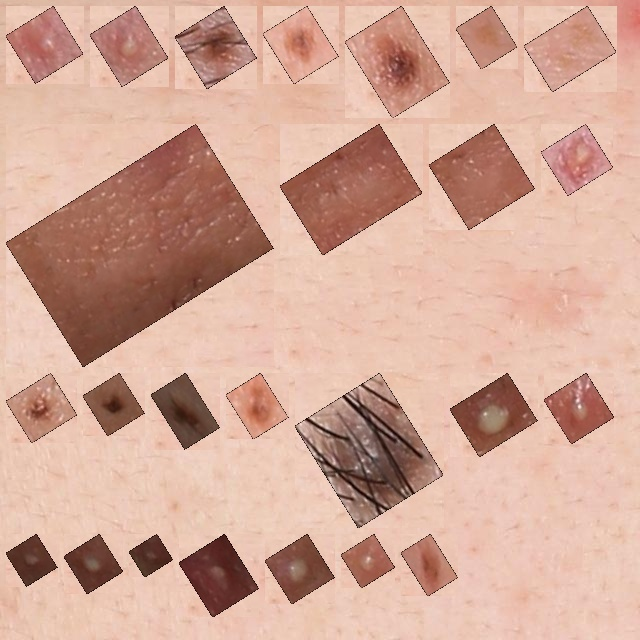hypertrophic_scar: (17, 135, 262, 355), (291, 135, 411, 244), (440, 135, 524, 218)
melasma: (535, 17, 605, 81), (467, 17, 506, 58)
nevus: (306, 384, 432, 517), (356, 17, 438, 107), (186, 17, 245, 77), (274, 17, 327, 73), (162, 384, 209, 438), (17, 384, 66, 432), (237, 384, 277, 428), (94, 384, 133, 425), (412, 545, 447, 585)
pustule: (461, 384, 526, 446), (190, 545, 248, 606), (101, 17, 157, 75), (17, 17, 72, 72), (552, 135, 602, 184), (555, 384, 603, 433), (276, 545, 323, 593), (75, 545, 112, 583), (352, 545, 384, 577), (17, 545, 46, 575), (140, 545, 162, 566)
